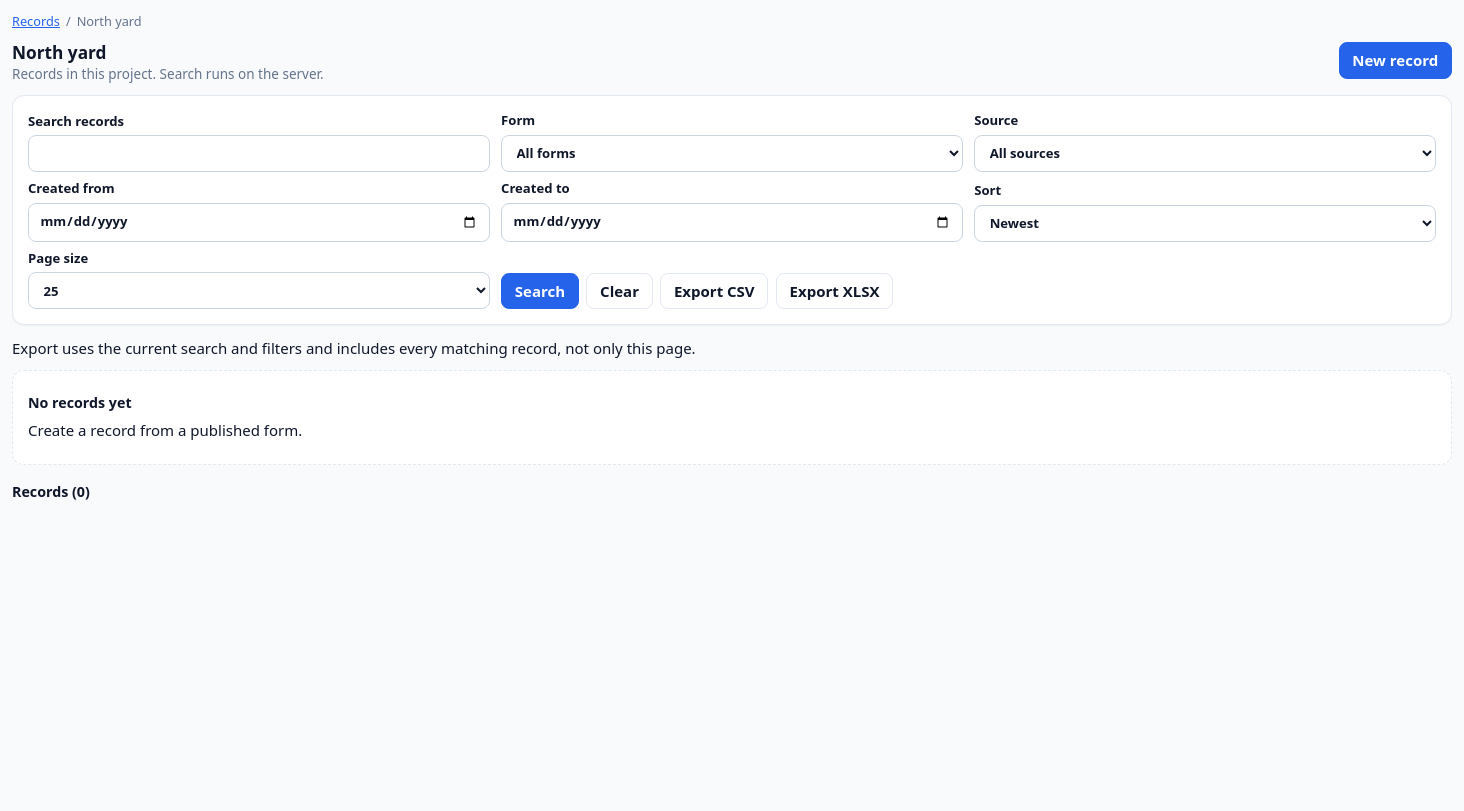
Test case: creates a record from the published version and keeps that label on the detail
Expected: the text "No records yet" is shown, x1=28 y1=393 x2=132 y2=412
Click the link "New record". click: (1395, 61)
box: x1=1339 y1=42 x2=1452 y2=79
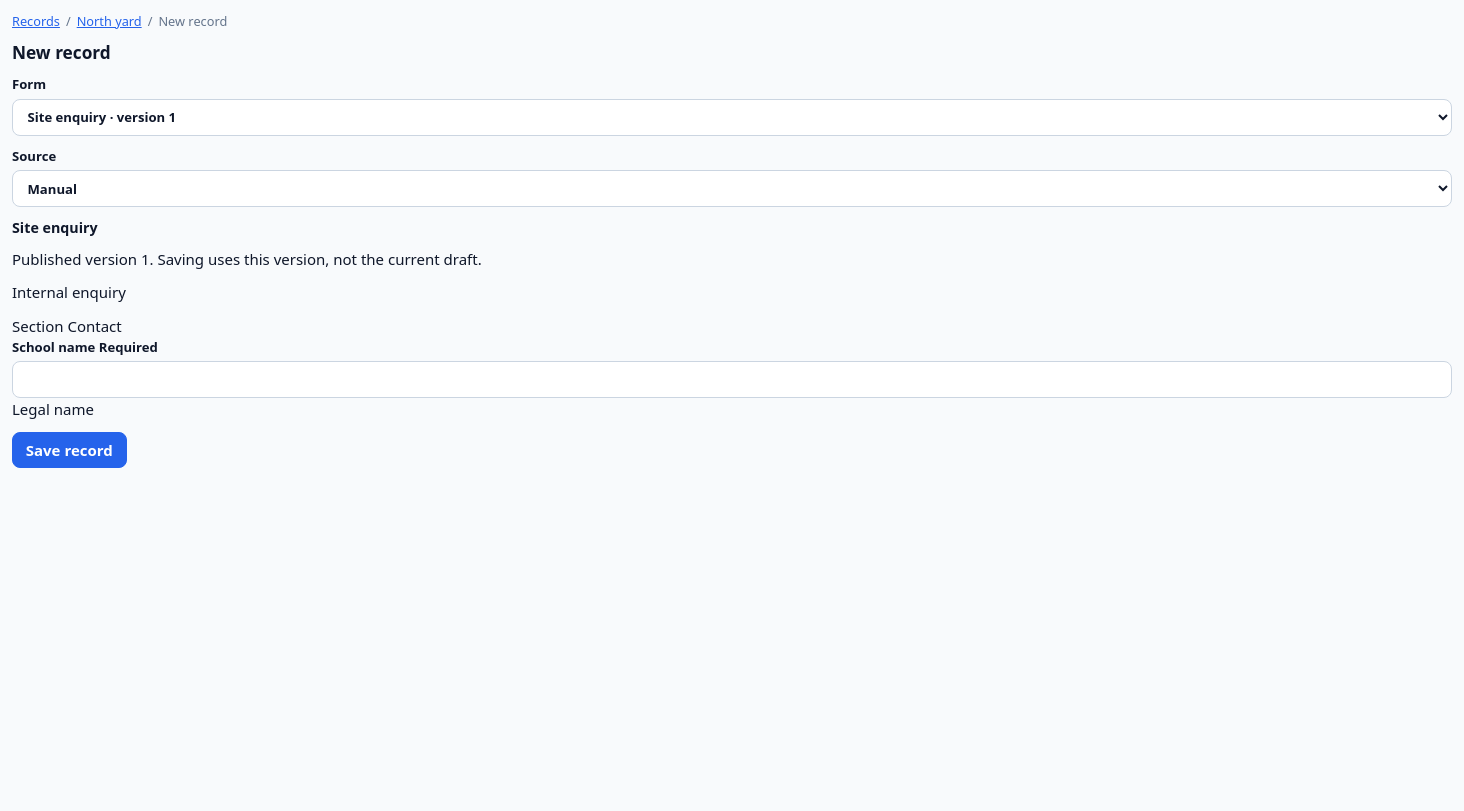
Type "North school" into the field labelled "School name Required". click: (732, 379)
box: x1=12 y1=361 x2=1452 y2=398
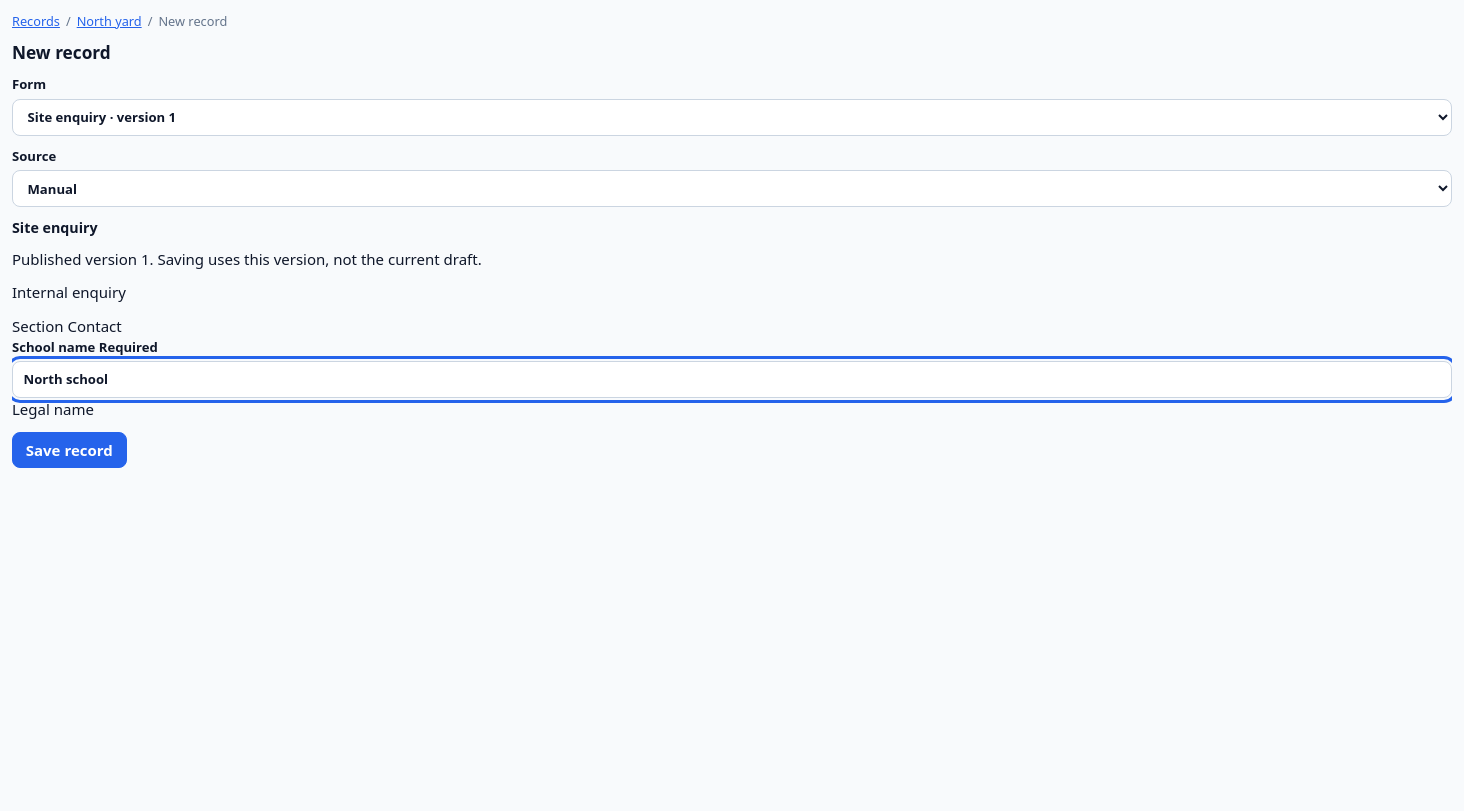
Click the button "Save record". click: (69, 450)
box: x1=12 y1=432 x2=126 y2=468
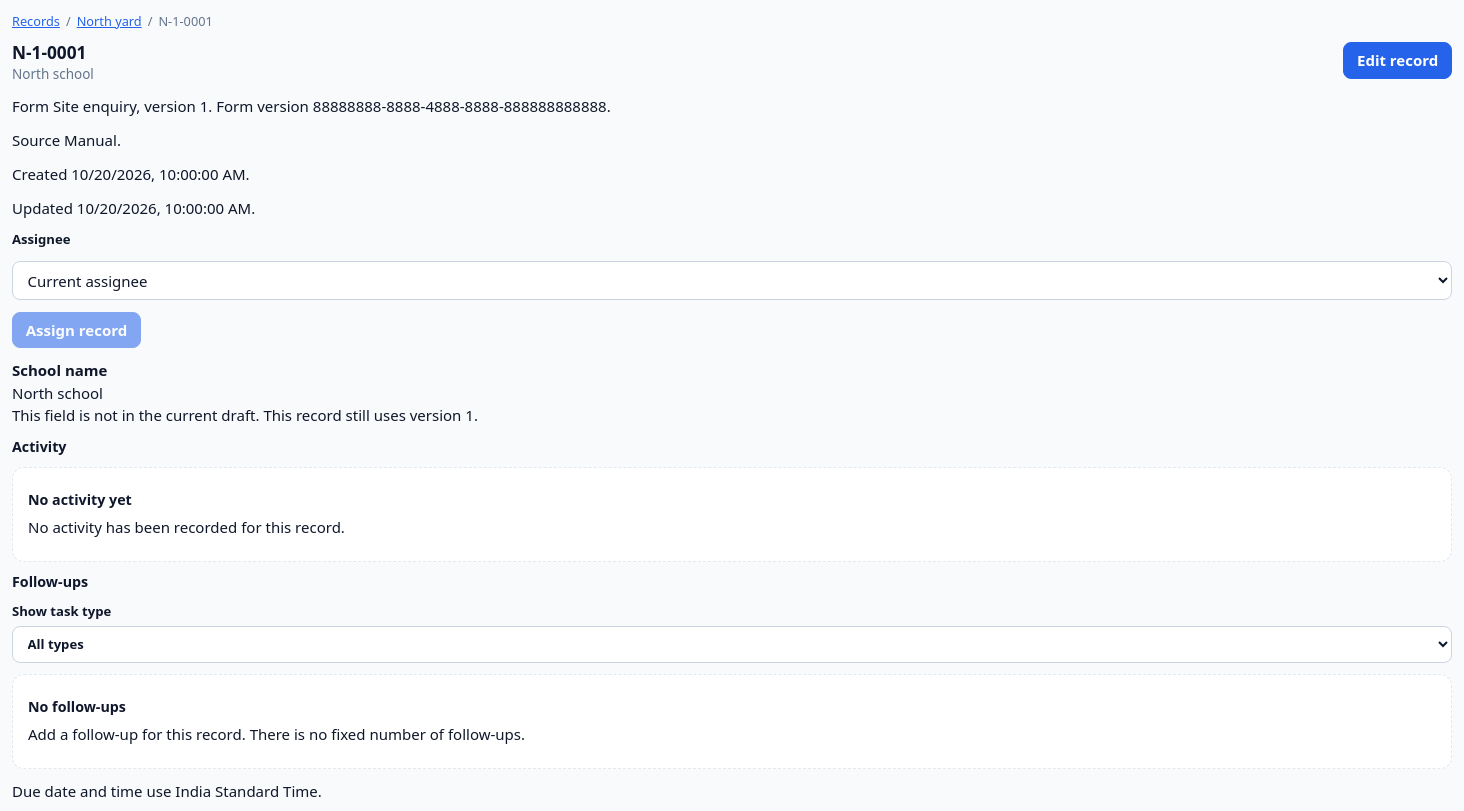
Expected: the text "School name" is shown, x1=12 y1=360 x2=107 y2=380
Expected: the heading "N-1-0001" is shown, x1=12 y1=42 x2=94 y2=64
Expected: the text "This field is not in the current draft. This record still uses version 1." is shown, x1=12 y1=405 x2=478 y2=425
